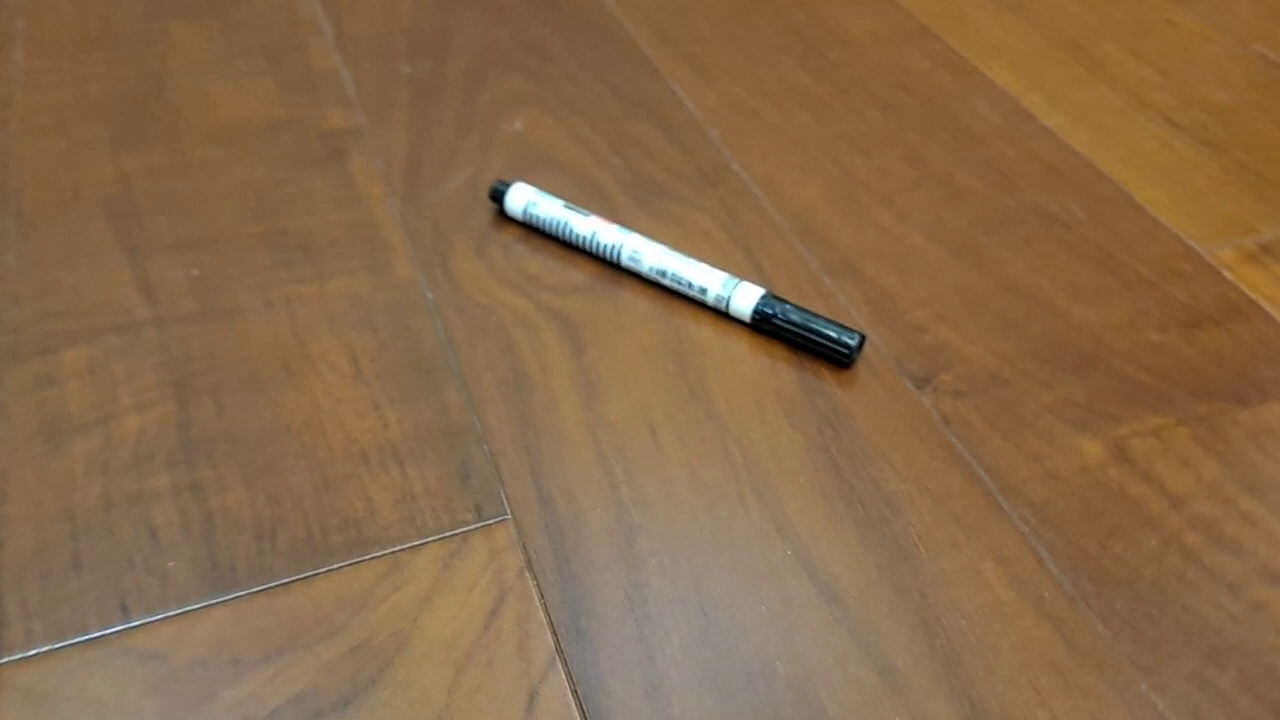pen: (487, 176, 867, 370)
